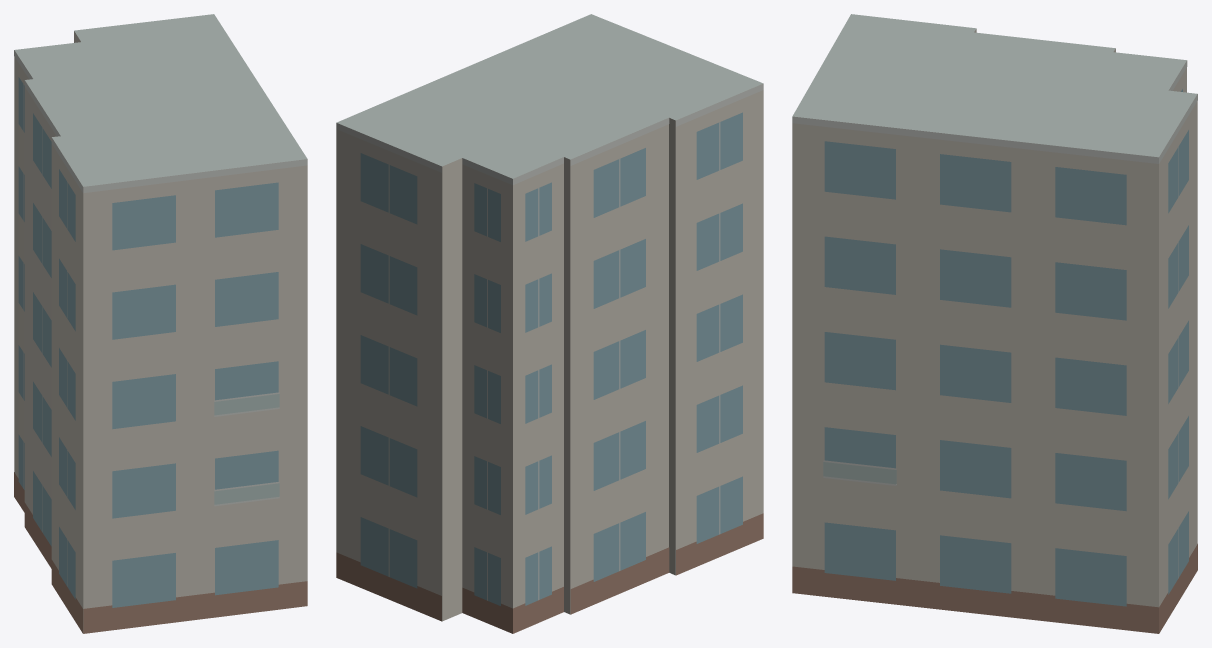
File: survey-upis-32730001.glb
3 renders of one model, left to right at view 1: azimuth 30°, elevation 25°; view 2: azimuth 150°, elevation 25°; view 3: azimuth 270°, elevation 25°, orthographic. The views are drawn at different scales.
Parts seen in each view (by area): view 1: survey-upis-32730001.tmp; view 2: survey-upis-32730001.tmp; view 3: survey-upis-32730001.tmp.
Boxes of the visible parts, box(x1,y1,x2,y2) form: survey-upis-32730001.tmp: box(14, 14, 307, 633); survey-upis-32730001.tmp: box(336, 14, 763, 633); survey-upis-32730001.tmp: box(792, 14, 1197, 633).
Size of the model in its own units: 11.1 by 17.2 by 13.27.
